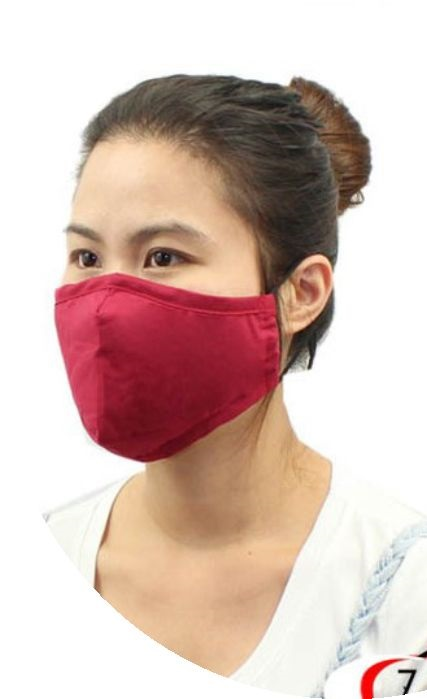face_mask: (48, 126, 256, 462)
